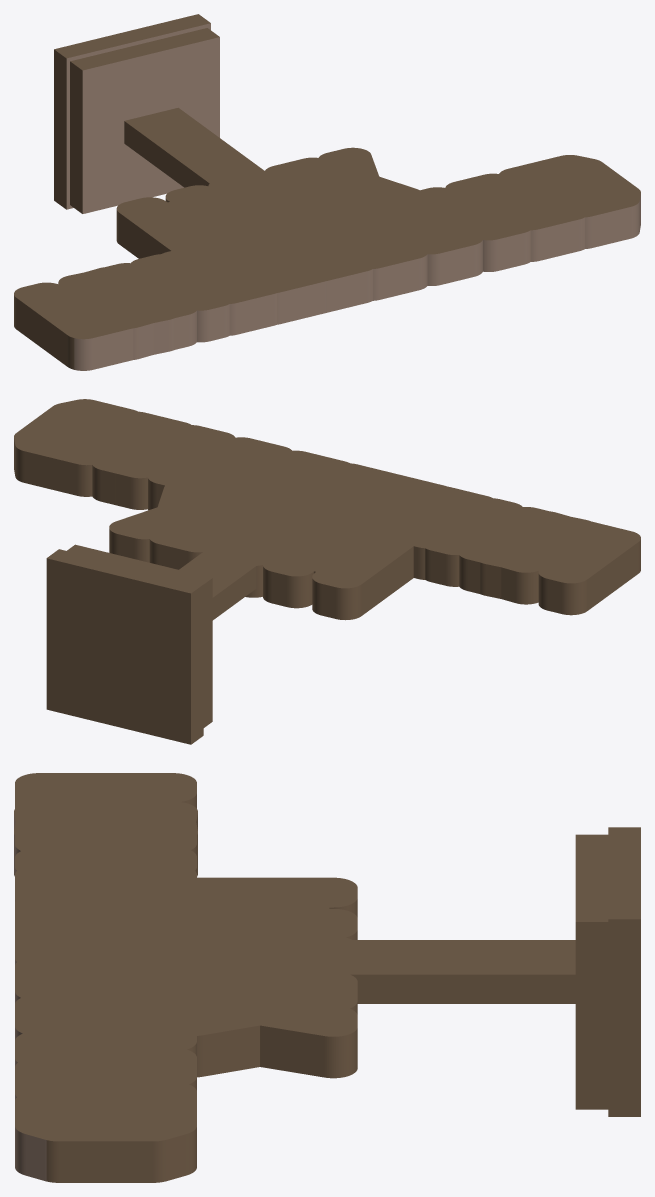
Rendered from fingerboard-park-sign-textured.glb.
The picture shows the model from 3 angles, top to bottom: view 1: azimuth 30°, elevation 25°; view 2: azimuth 150°, elevation 25°; view 3: azimuth 270°, elevation 25°; orthographic projection. The views are drawn at different scales.
Parts seen in each view (by area): view 1: geometry_0; view 2: geometry_0; view 3: geometry_0.
Boxes of the visible parts, <box> form: geometry_0: <box>14,14,640,370</box>; geometry_0: <box>14,399,640,744</box>; geometry_0: <box>14,773,640,1182</box>.
Size of the model in its own units: 80 by 20 by 57.55.
1 material, 1 textured.
